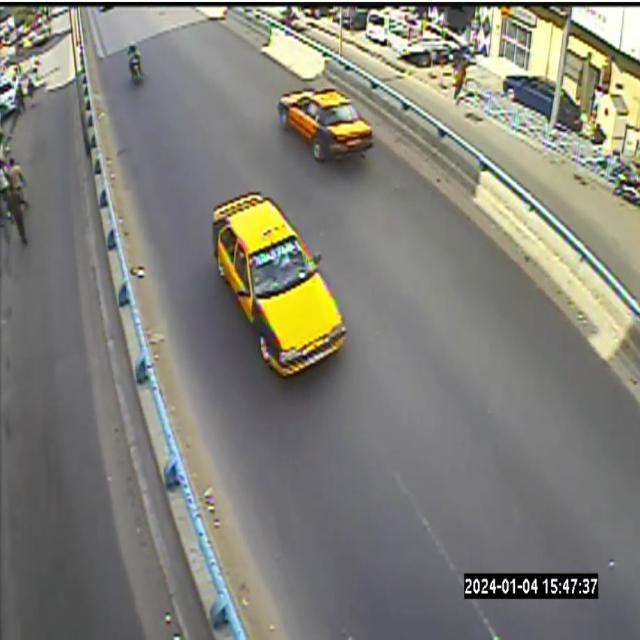car: (209, 185, 346, 393), (212, 191, 345, 379)
